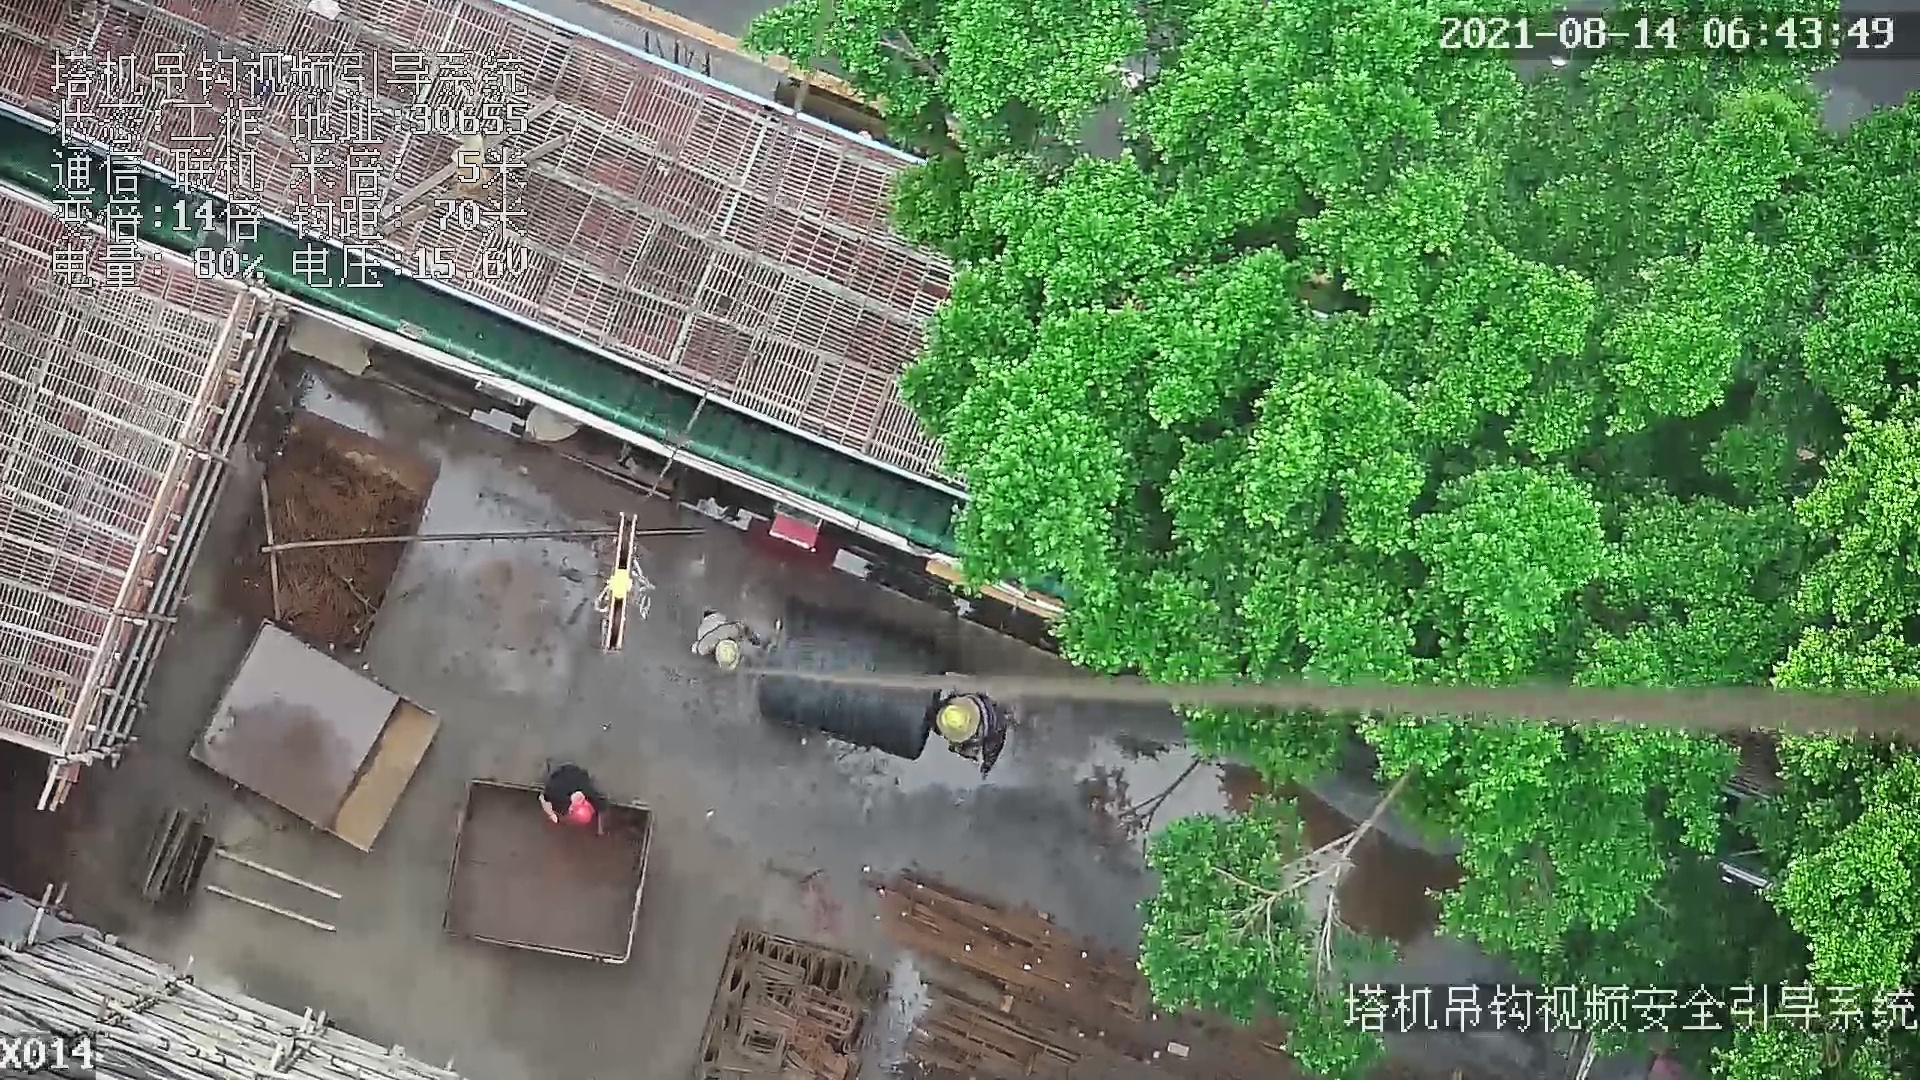helmet: (567, 798, 600, 827), (940, 705, 969, 734), (714, 643, 738, 672)
hook: (588, 514, 650, 658)
person: (928, 687, 1014, 783), (533, 756, 612, 835), (692, 606, 767, 674)
